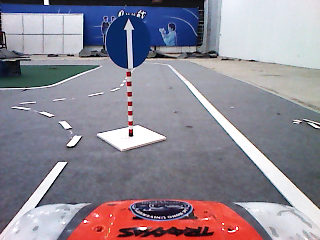straight: (102, 12, 154, 71)
